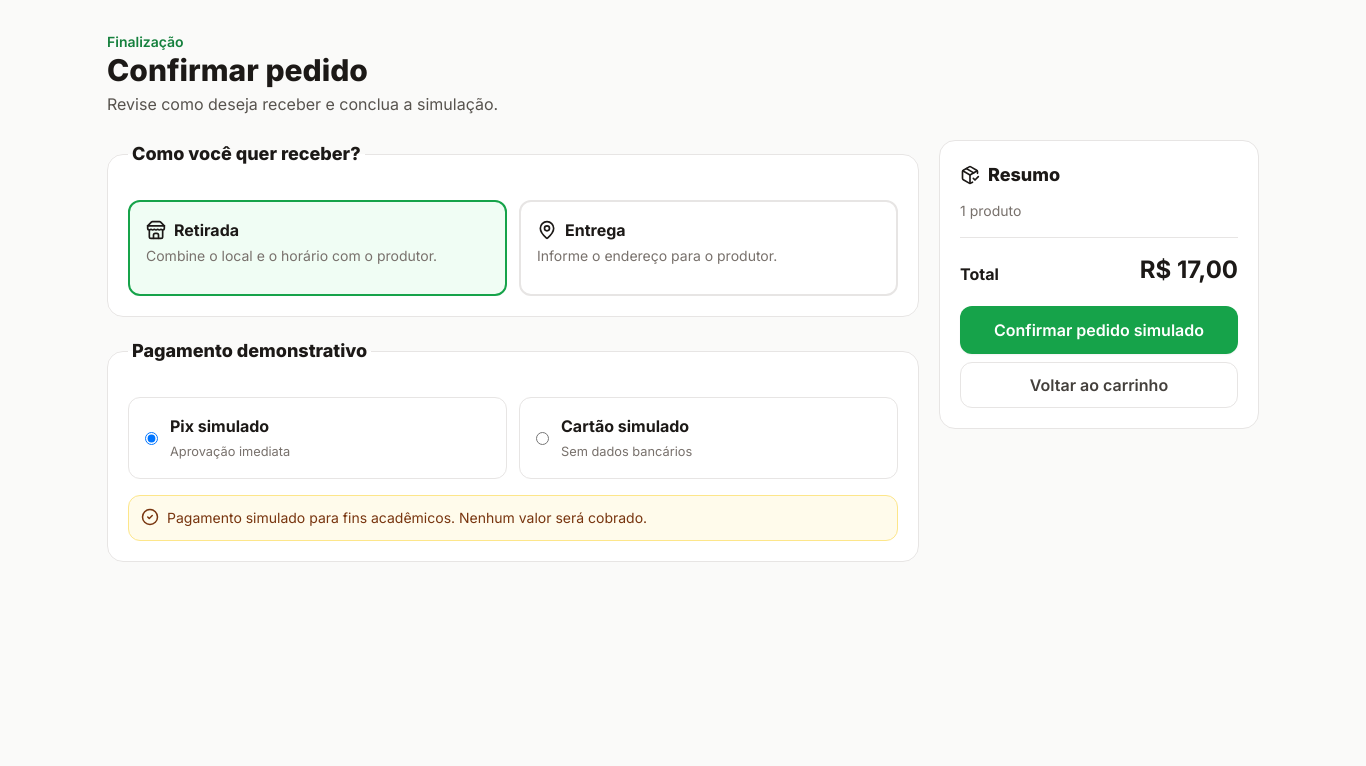
Scenario: exige endereço completo somente para entrega
Click the radio button labelled "Entrega Informe o endereço para o produtor." at (708, 248), box 519,200 -> 898,296
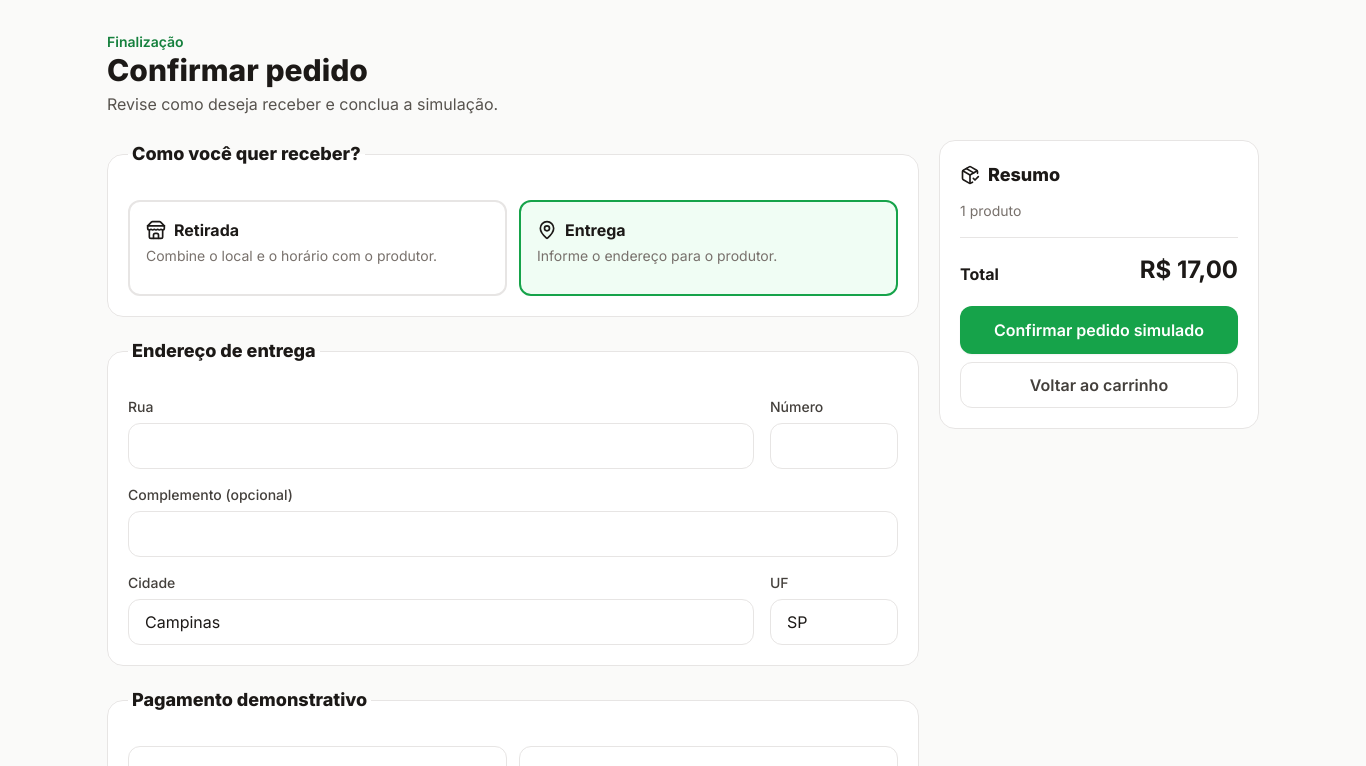
Click the button "Confirmar pedido simulado" at (1099, 330), box 960,306 -> 1238,354
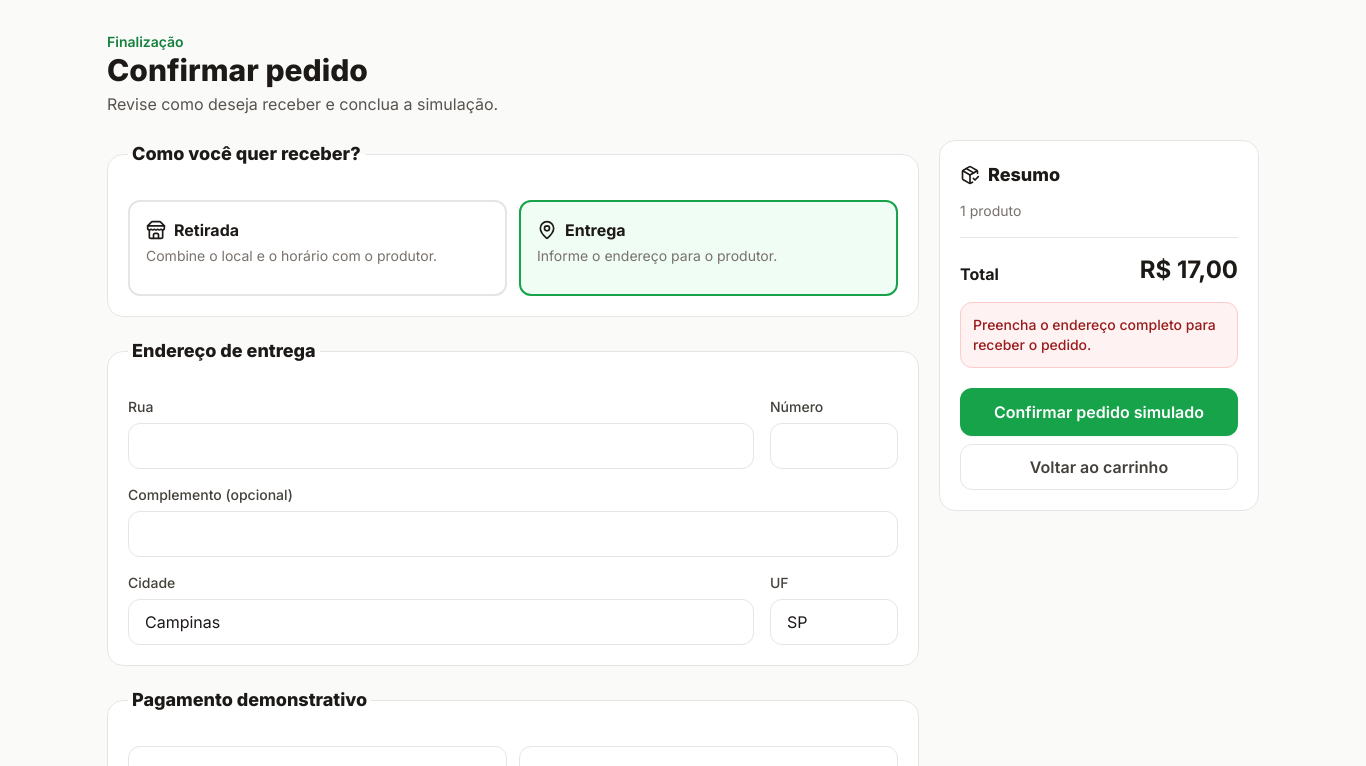
Result: the message shows "Preencha o endereço completo" at 973,316 -> 1216,353
